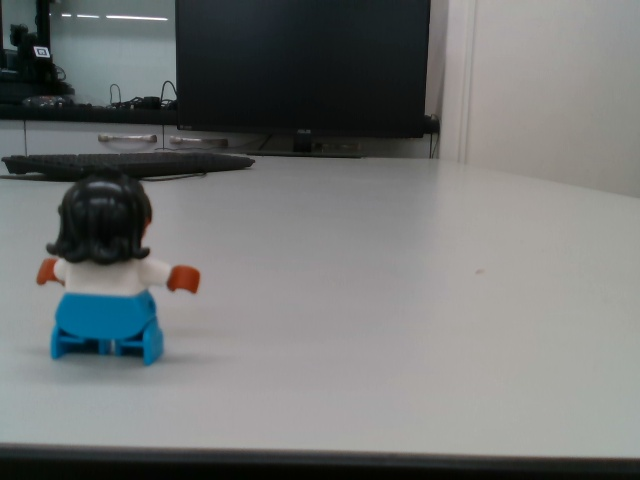people: (35, 174, 203, 371)
